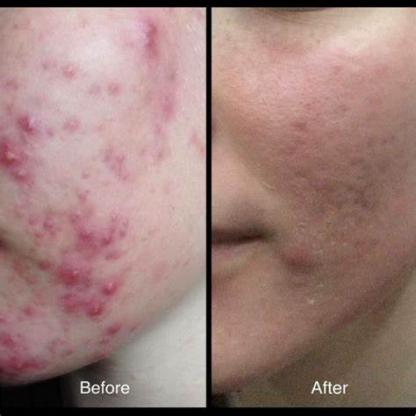Acne: (18, 113, 46, 143), (10, 162, 32, 186), (89, 299, 107, 326), (102, 278, 120, 302), (64, 262, 81, 286), (1, 145, 21, 164)
